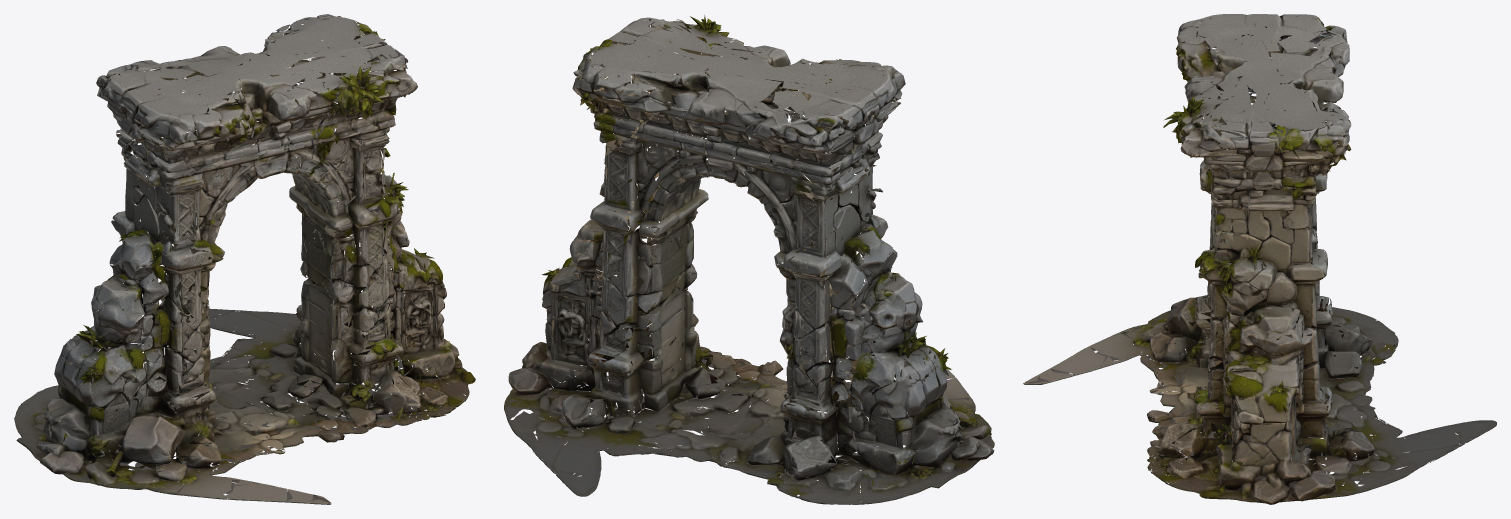
File: gate.glb
3 views of the same model, side by side, from view 1: azimuth 30°, elevation 25°; view 2: azimuth 150°, elevation 25°; view 3: azimuth 270°, elevation 25° (orthographic). The views are drawn at different scales.
Parts seen in each view (by area): view 1: tripo_node_7554d447; view 2: tripo_node_7554d447; view 3: tripo_node_7554d447.
Part boxes in pixels (x1=…): tripo_node_7554d447: x1=14, y1=14, x2=475, y2=504; tripo_node_7554d447: x1=504, y1=15, x2=994, y2=504; tripo_node_7554d447: x1=1023, y1=14, x2=1496, y2=504.
Size of the model in its own units: 0.9782 by 0.7429 by 0.9333.
1 material, 1 textured.
